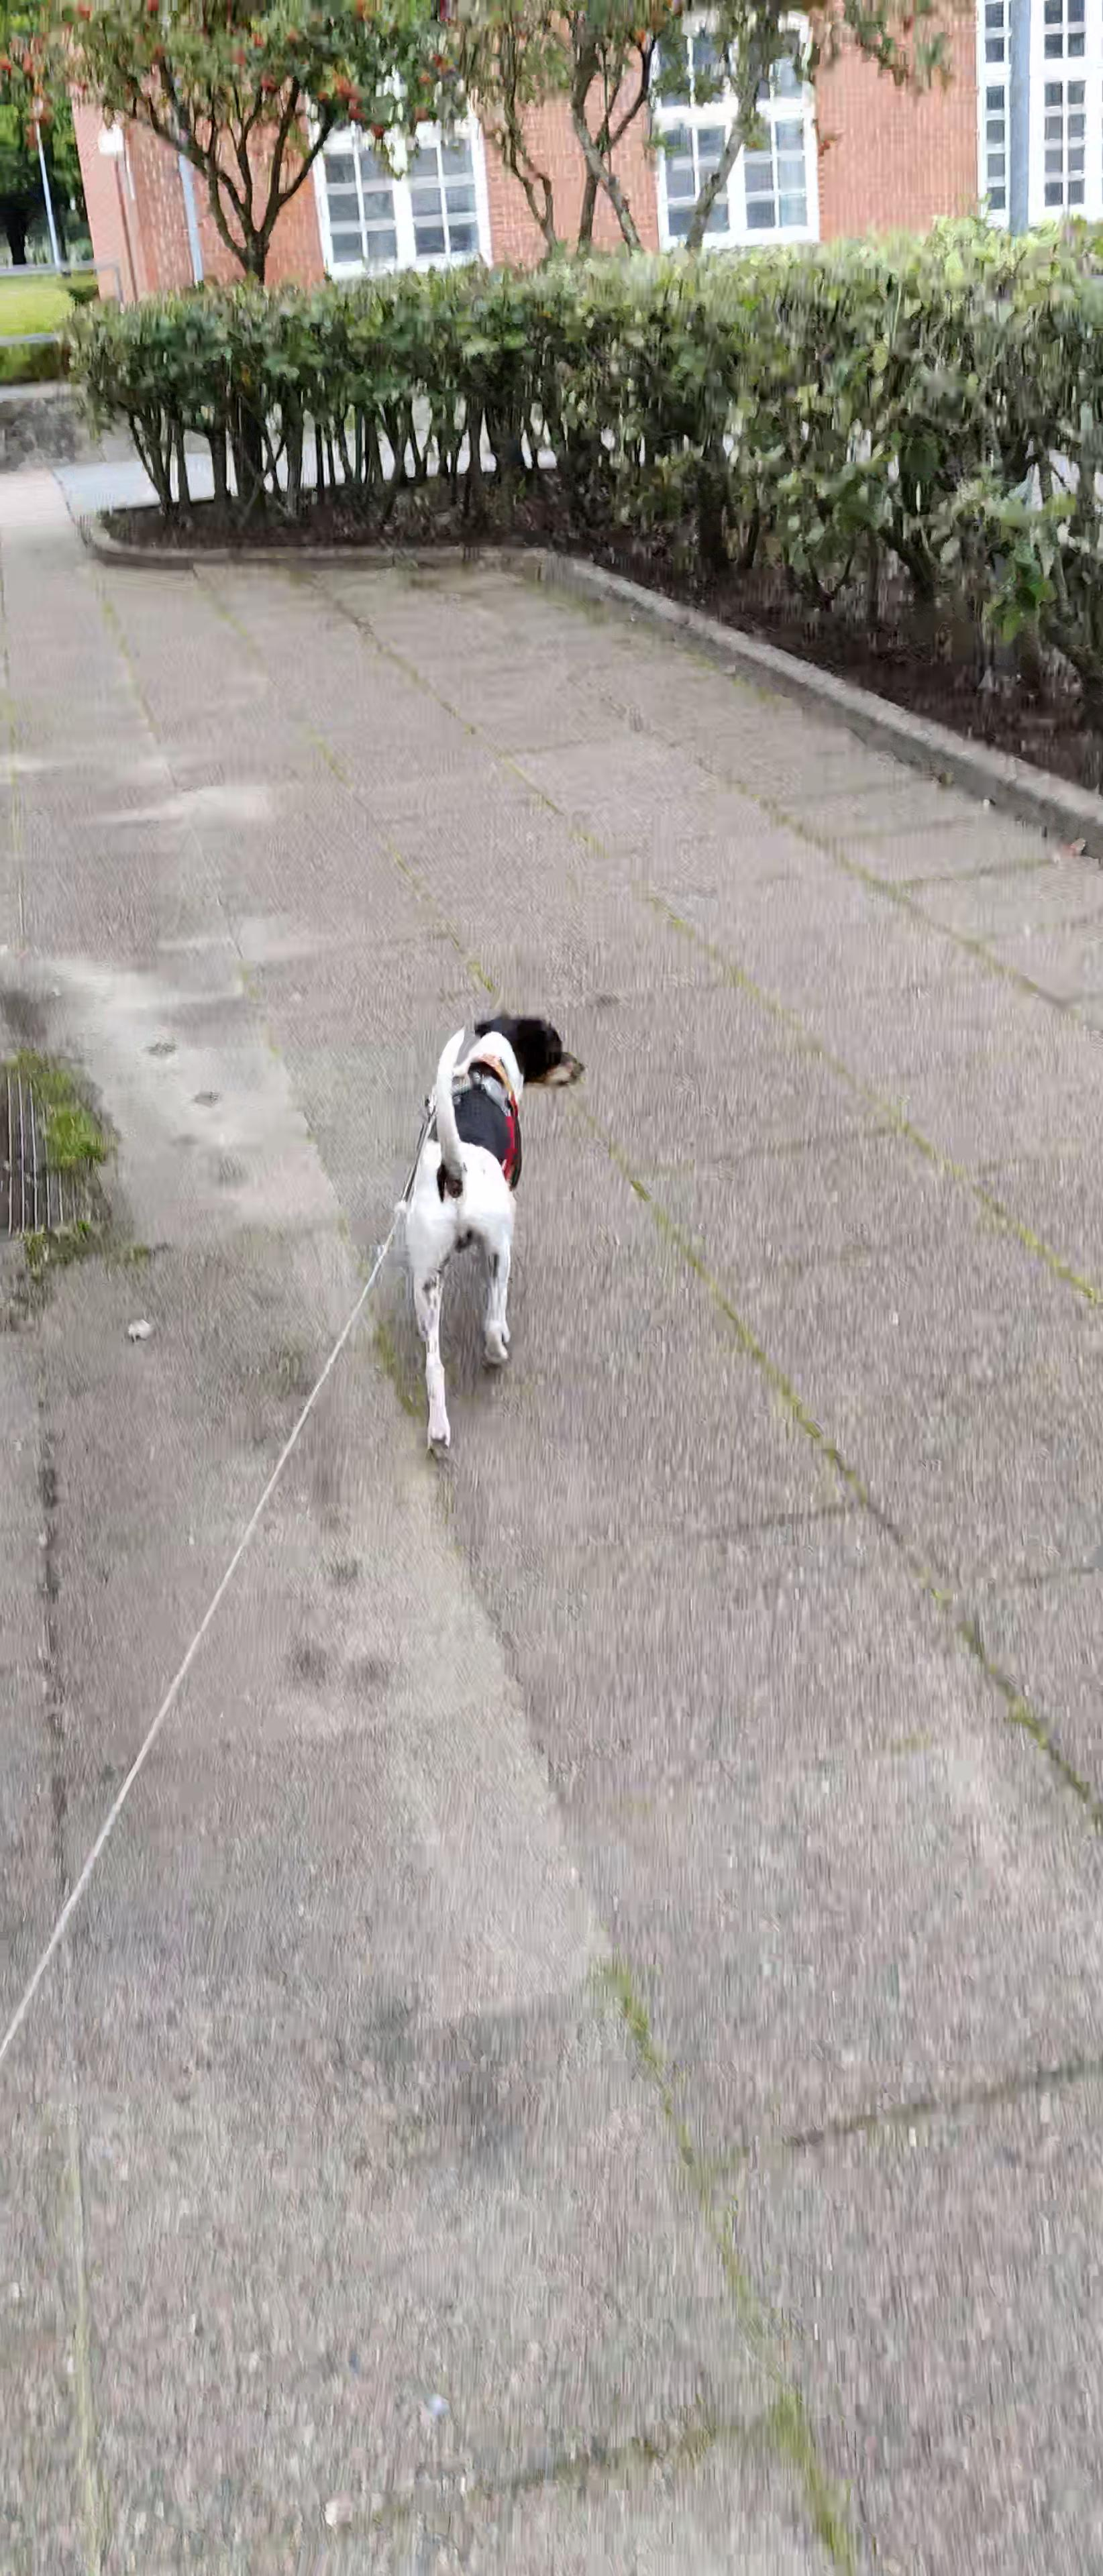Dog: (395, 1012, 588, 1460)
